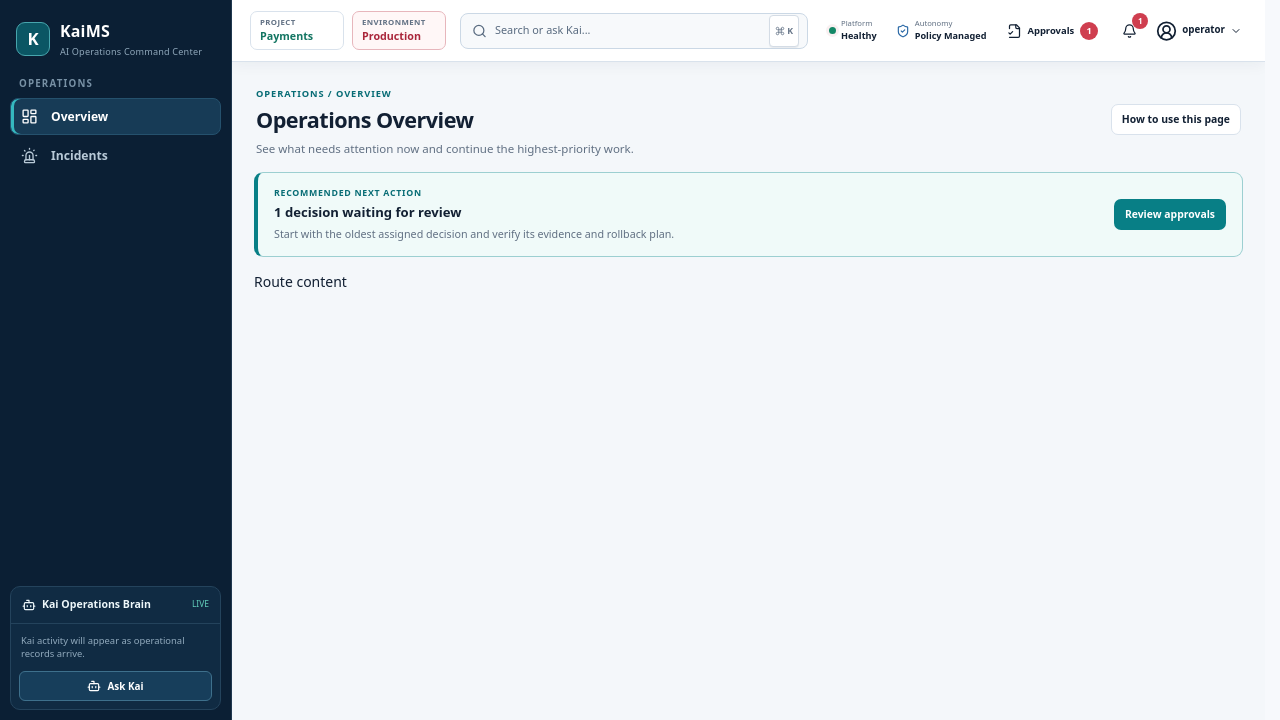
Test: Kai operations shell › shows only meaningful operational notifications
Click the button named "1 operational notifications" at (1129, 30), box [1112, 14, 1146, 48]
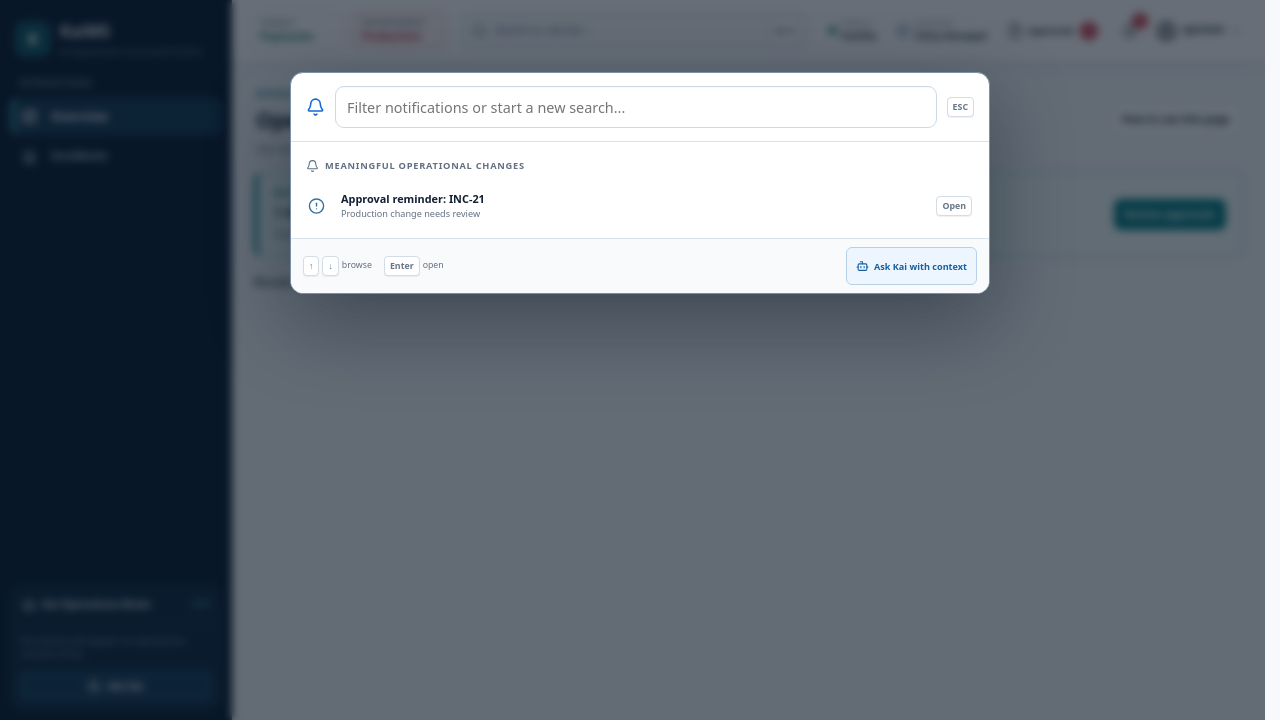
Result: the text "Approval reminder: INC-21" is shown at [341, 191, 485, 206]
Result: the text "Production change needs review" is shown at [341, 207, 480, 220]
